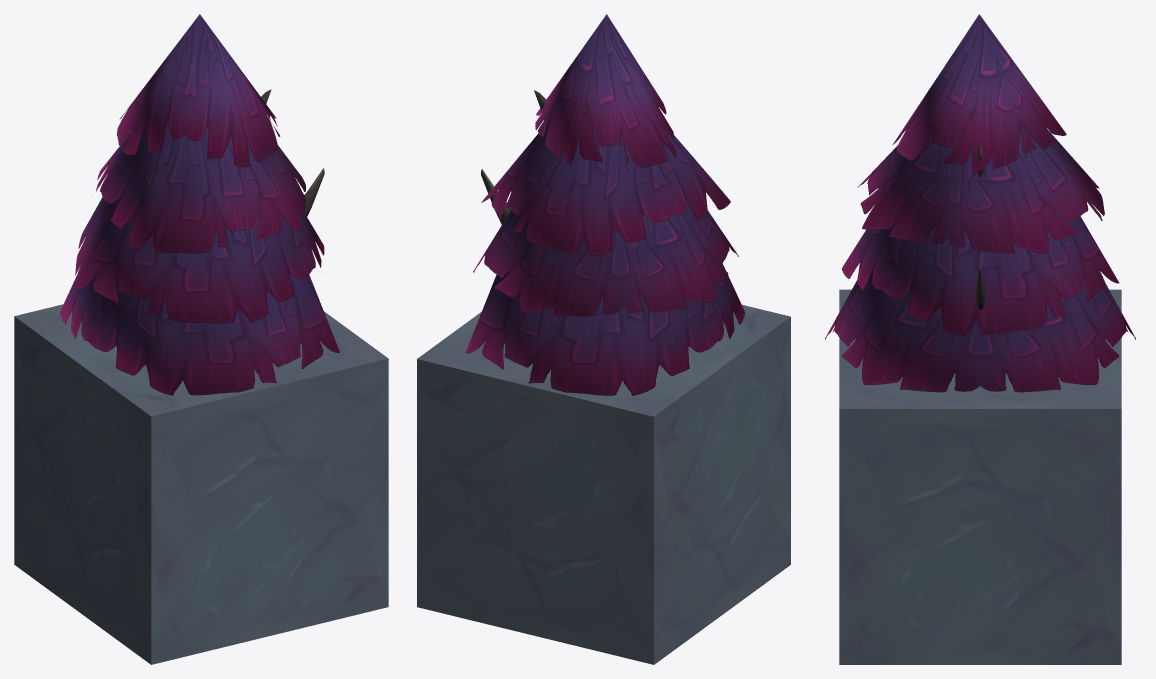
Rendered from AssetsBase.fbx.
3 views of the same model, side by side, from view 1: azimuth 30°, elevation 25°; view 2: azimuth 150°, elevation 25°; view 3: azimuth 270°, elevation 25° (orthographic). The views are drawn at different scales.
Visible parts, largest first — view 1: Block, Tree1; view 2: Block, Tree1; view 3: Block, Tree1.
Part boxes in pixels (x1,y1,x2,y2): Block: (14,304,388,664); Tree1: (60,14,339,395); Block: (417,304,790,664); Tree1: (465,14,745,395); Block: (839,289,1121,664); Tree1: (825,14,1135,392).
Bounding box in the file's own units: 104 × 232 × 115.
